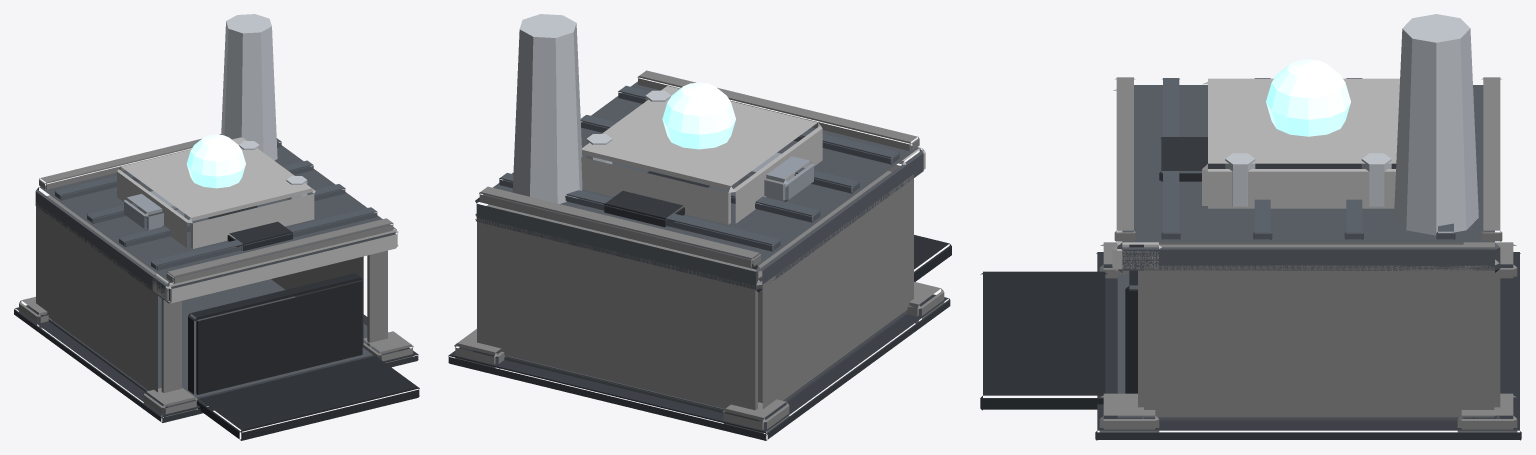
The model's file is con_works.glb.
The picture shows the model from 3 angles, left to right: view 1: azimuth 30°, elevation 25°; view 2: azimuth 150°, elevation 25°; view 3: azimuth 270°, elevation 25°; orthographic projection. The views are drawn at different scales.
Parts seen in each view (by area): view 1: body; view 2: body; view 3: body.
Part boxes in pixels (left/top/right/bottom): body: left=14, top=14, right=419, bottom=440; body: left=448, top=14, right=951, bottom=440; body: left=980, top=14, right=1521, bottom=440.
Size of the model in its own units: 112 by 109 by 142.
